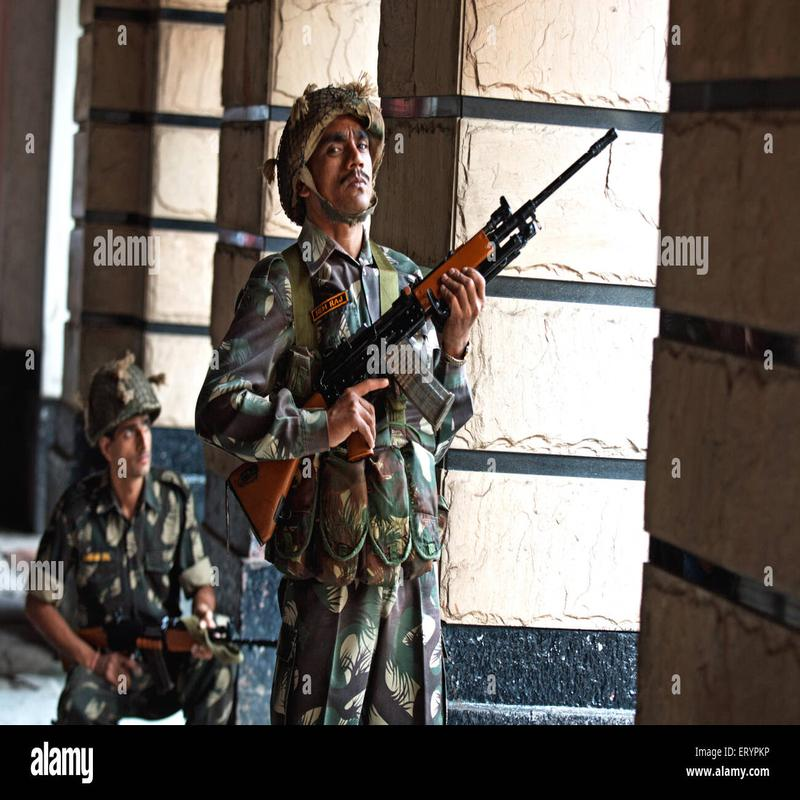GUN: (230, 112, 646, 570)
